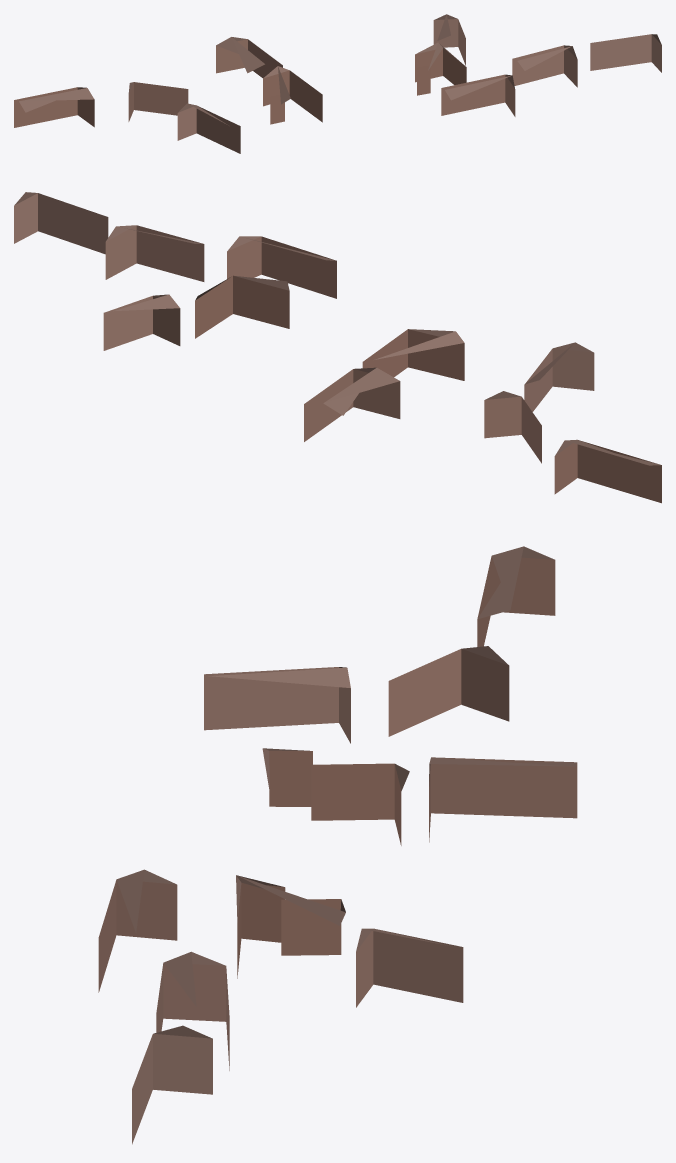
The model's file is c_1645_17834_buildings_residential.glb.
3 views of the same model, one above another, from view 1: azimuth 30°, elevation 25°; view 2: azimuth 150°, elevation 25°; view 3: azimuth 270°, elevation 25° (orthographic). The views are drawn at different scales.
Parts seen in each view (by area): view 1: geometry_0; view 2: geometry_0; view 3: geometry_0.
Boxes of the visible parts, x1=… form: geometry_0: x1=14, y1=14, x2=661, y2=153; geometry_0: x1=14, y1=192, x2=661, y2=503; geometry_0: x1=98, y1=546, x2=577, y2=1144.
Size of the model in its own units: 185 by 10.68 by 69.67.
